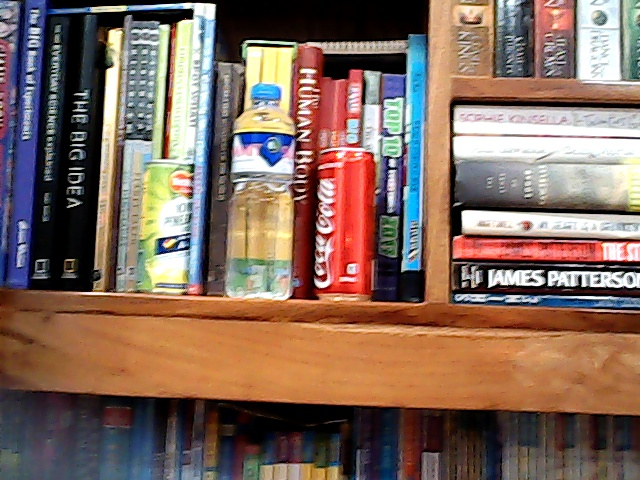Cola: (302, 140, 383, 306)
Pine Juice: (129, 153, 200, 299)
Summit Water: (215, 81, 297, 310)
